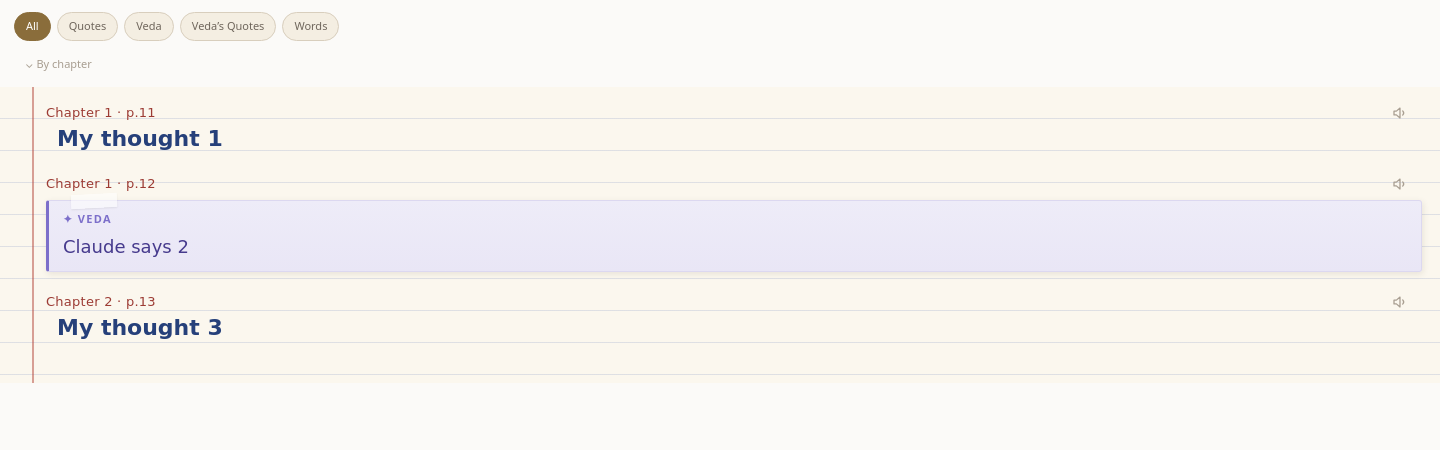
Test: the notes tab › groups by chapter without hiding anything
The width and height of the screenshot is (1440, 450).
# A switch beside the chips now, not a sixth chip among them.
Click the button "By chapter".
click(58, 64)  # box x1=14 y1=50 x2=103 y2=77
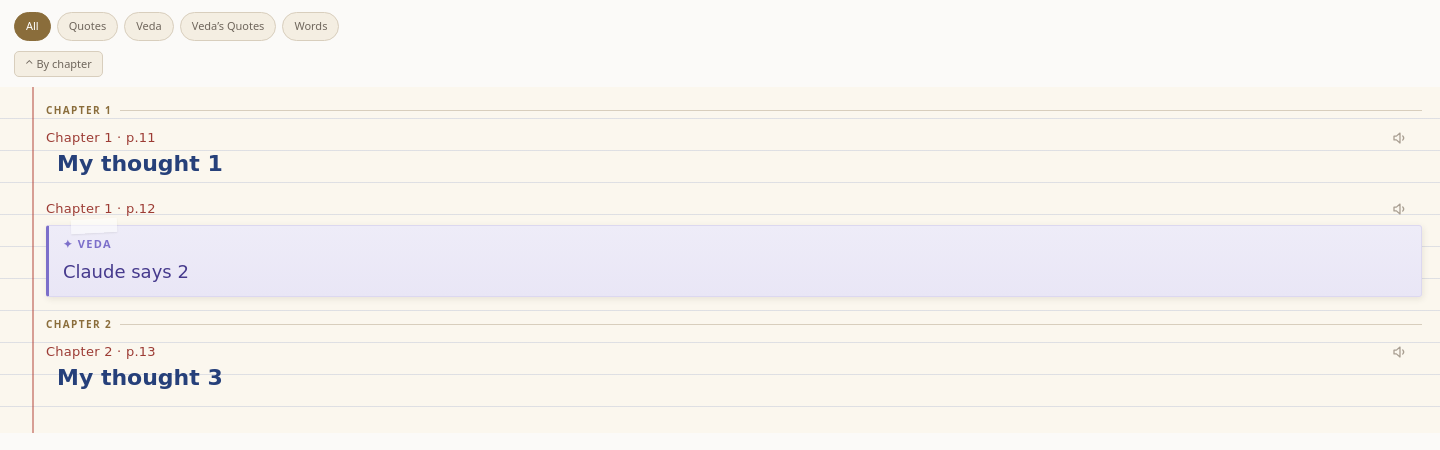
Expected: the button "My thought 1" is shown, x1=46 y1=148 x2=1422 y2=179
Result: the headings read "Chapter 1", "Chapter 2", in this order at x1=46 y1=103 x2=112 y2=117; x1=46 y1=316 x2=112 y2=330
